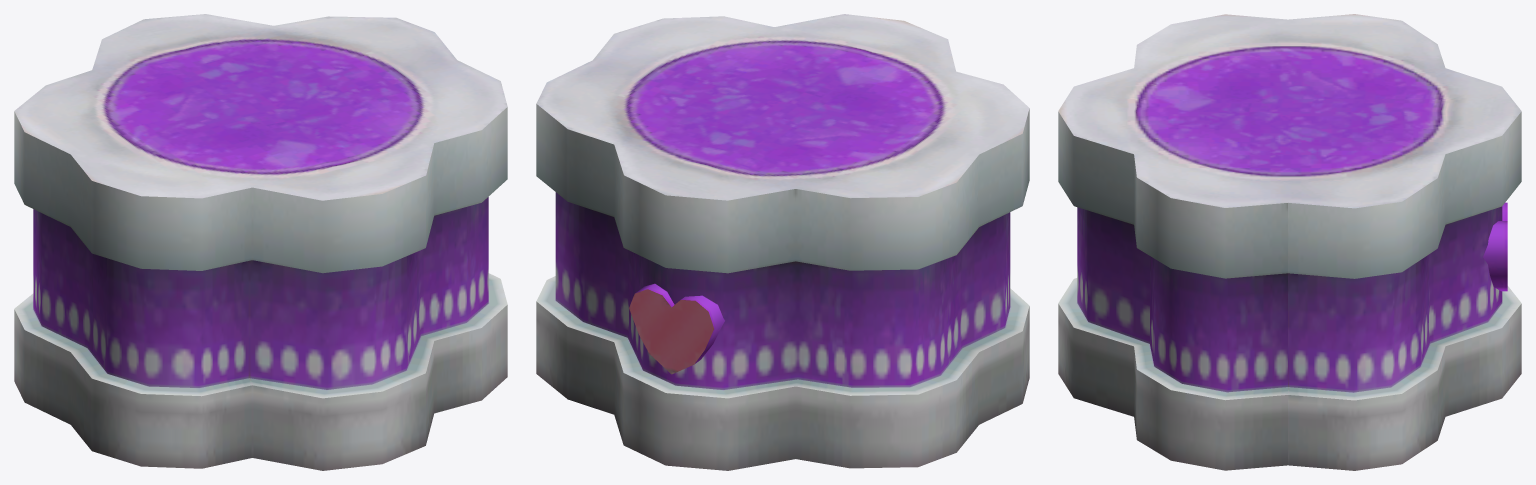
File: furni_0200014_01.FBX
The picture shows the model from 3 angles, left to right: view 1: azimuth 30°, elevation 25°; view 2: azimuth 150°, elevation 25°; view 3: azimuth 270°, elevation 25°; orthographic projection. The views are drawn at different scales.
Parts seen in each view (by area): view 1: furni_0200014_01; view 2: furni_0200014_01; view 3: furni_0200014_01.
Boxes of the visible parts, bbox=[...] form: furni_0200014_01: bbox=[14, 14, 507, 470]; furni_0200014_01: bbox=[536, 14, 1029, 470]; furni_0200014_01: bbox=[1058, 14, 1521, 470].
Size of the model in its own units: 79.39 by 50 by 79.99.
